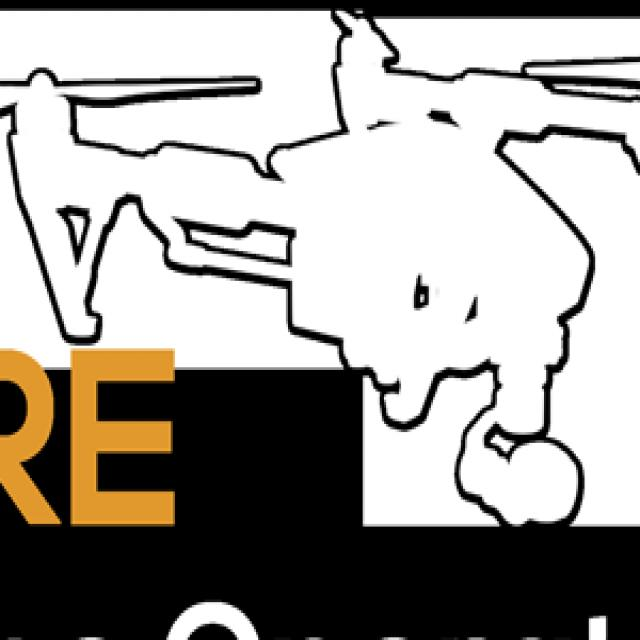drone: (0, 16, 640, 402)
